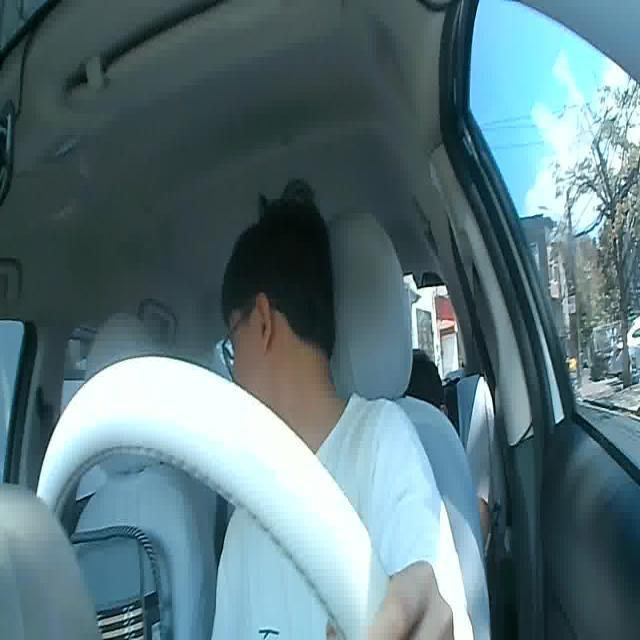Inattentive: (220, 178, 335, 418)
